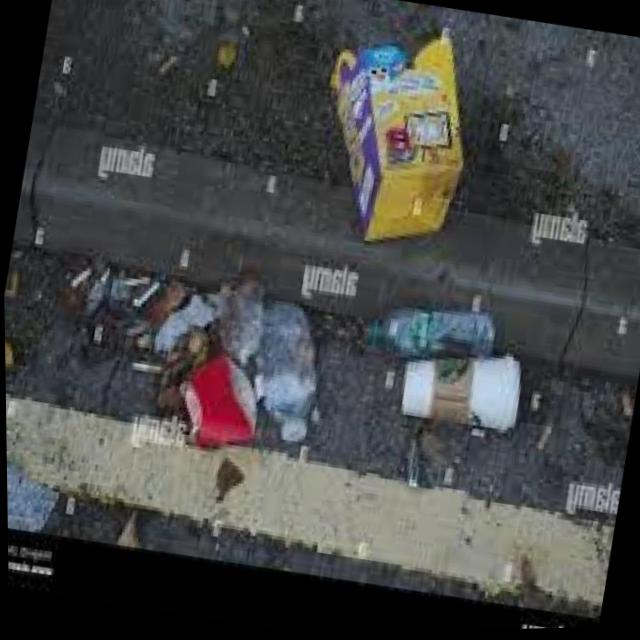leaf: (235, 289, 349, 460), (388, 333, 541, 458), (356, 301, 501, 364)
trash: (298, 22, 498, 257), (161, 342, 269, 464)
